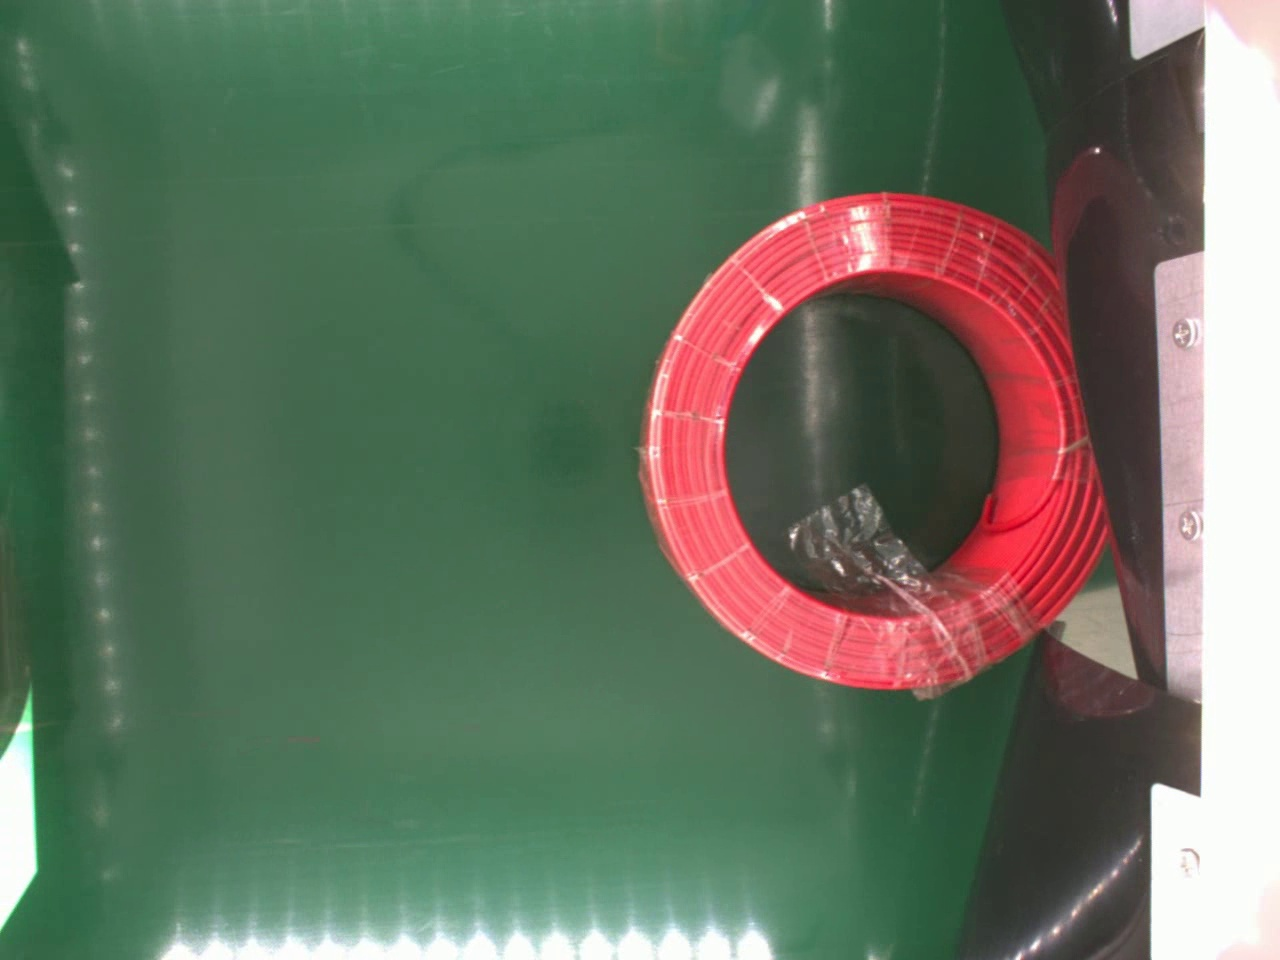red: (634, 191, 1110, 690)
